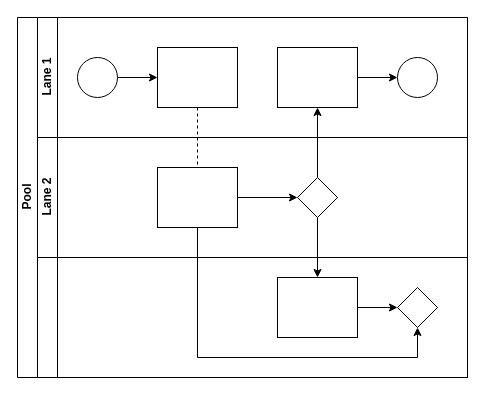
The diagram is 485 pixels wide and 395 high, and some of its shapes have lost their labels. Each missing label, with the box of its shape:
hello: (156, 166, 238, 228)
Lane 3: (36, 256, 468, 378)
